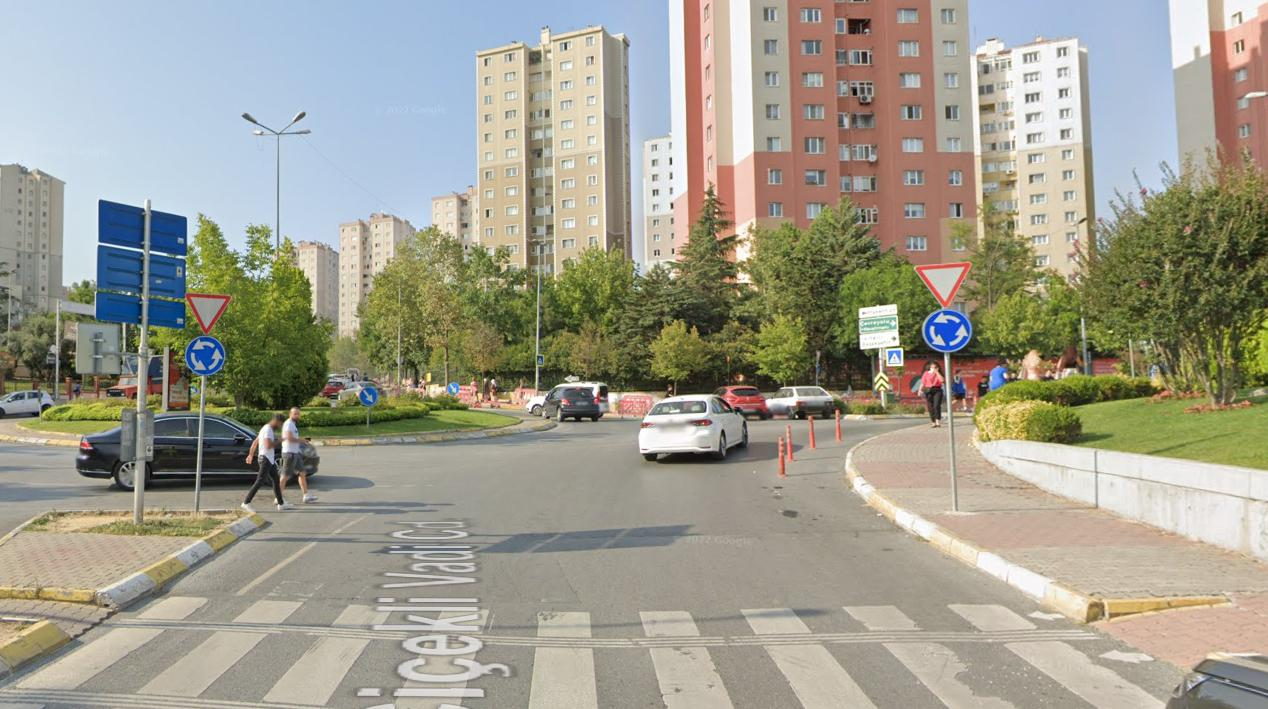crossroads: (183, 337, 229, 378)
